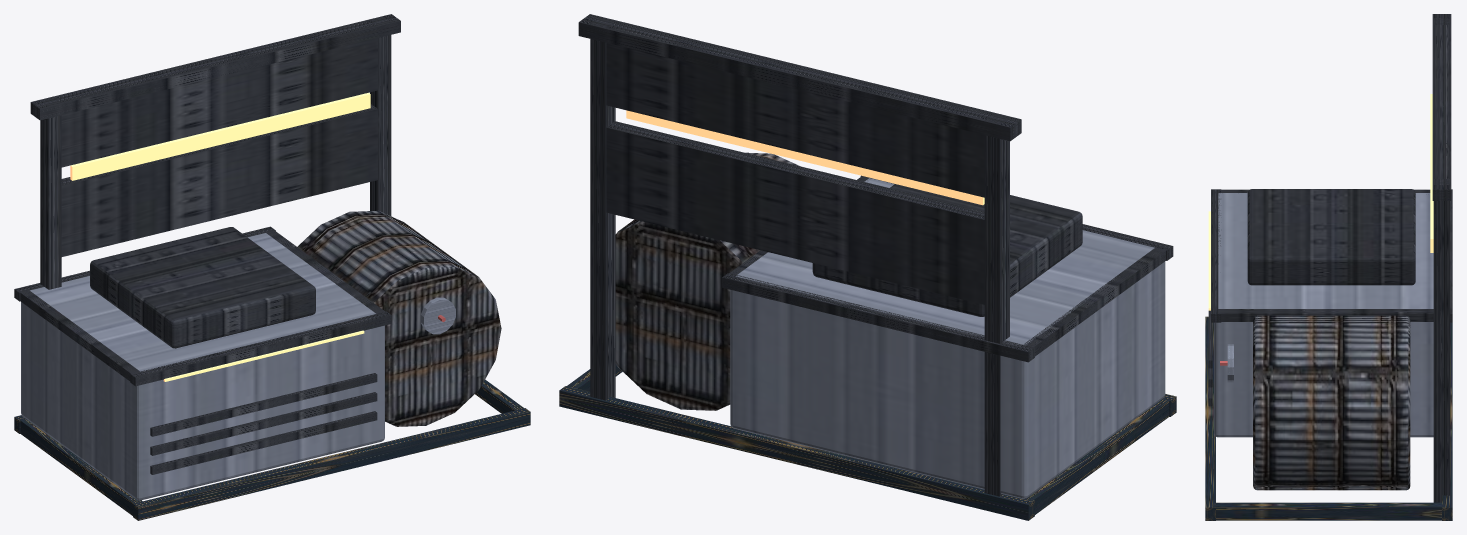
The model's file is engine_compressor.glb.
3 views of the same model, side by side, from view 1: azimuth 30°, elevation 25°; view 2: azimuth 150°, elevation 25°; view 3: azimuth 270°, elevation 25° (orthographic). The views are drawn at different scales.
Visible parts, largest first — view 1: sight_shell, body, tank, head, shelltoe0, sightglow, shellrim0, fin2, fin1, fin0, shelltoes0, shellrims0 (+4 smaller); view 2: sight_shell, body, tank, shelltoe2, head, shellrim2, shelltoes0, sightglow, shellrims0, shellrim0; view 3: tank, body, head, sight_shell, shelltoes2, shellrims2, shelltoe0, shellrim0, shelltoe2, sightglow, shellrim2, shellglow.
Boxes of the visible parts, <box> form: sight_shell: <box>30,14,400,289</box>; body: <box>21,233,384,500</box>; tank: <box>297,210,501,426</box>; head: <box>90,227,315,348</box>; shelltoe0: <box>133,408,530,520</box>; sightglow: <box>70,93,370,180</box>; shellrim0: <box>130,311,391,386</box>; fin2: <box>150,373,377,436</box>; fin1: <box>150,392,377,455</box>; fin0: <box>150,411,377,474</box>; shelltoes0: <box>19,418,142,515</box>; shellrims0: <box>19,289,141,381</box>; sight_shell: <box>578,14,1021,496</box>; body: <box>730,178,1165,498</box>; tank: <box>615,152,799,410</box>; shelltoe2: <box>559,386,1034,520</box>; head: <box>812,184,1082,316</box>; shellrim2: <box>722,273,1034,362</box>; shelltoes0: <box>1021,399,1169,514</box>; sightglow: <box>626,110,984,205</box>; shellrims0: <box>1024,248,1167,356</box>; shellrim0: <box>860,175,1173,260</box>; tank: <box>1253,315,1410,490</box>; body: <box>1214,193,1433,437</box>; head: <box>1247,189,1415,285</box>; sight_shell: <box>1432,14,1451,502</box>; shelltoes2: <box>1212,502,1445,520</box>; shellrims2: <box>1218,309,1433,321</box>; shelltoe0: <box>1205,316,1215,520</box>; shellrim0: <box>1211,189,1221,322</box>; shelltoe2: <box>1442,322,1452,520</box>; sightglow: <box>1430,94,1433,252</box>; shellrim2: <box>1450,189,1452,322</box>; shellglow: <box>1208,211,1210,310</box>.
Bounding box in the file's own units: 2.15 × 1.7 × 1.18.
Materials: 8 (6 with a texture image).
